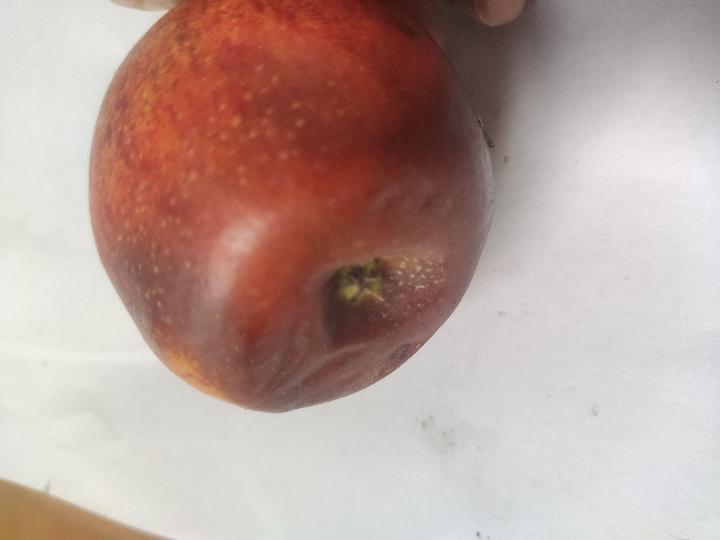apple: (90, 0, 492, 412)
rot_mold_decay: (100, 42, 492, 412)
